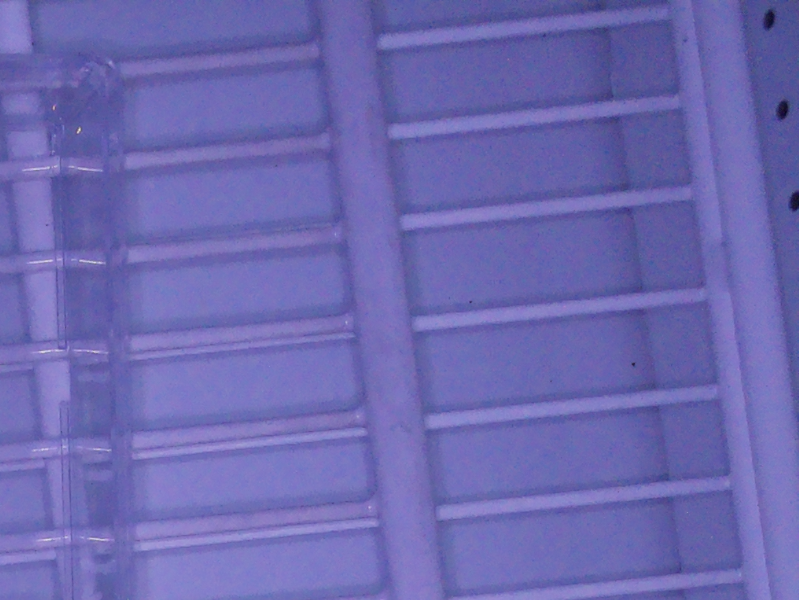plate: (1, 48, 130, 600)
